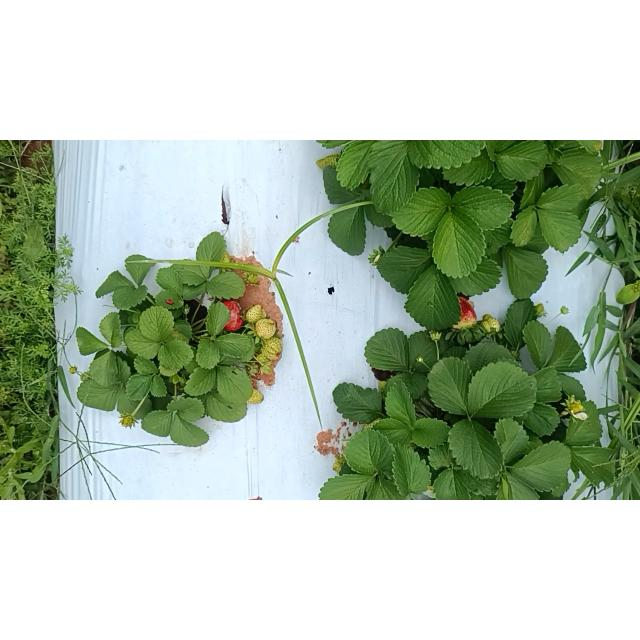maduro: (220, 300, 242, 330)
no-maduro: (254, 318, 276, 340), (262, 337, 282, 361), (244, 304, 266, 324), (480, 313, 500, 335), (316, 153, 340, 169), (245, 388, 262, 404)
semi-maduro: (450, 295, 478, 329)
